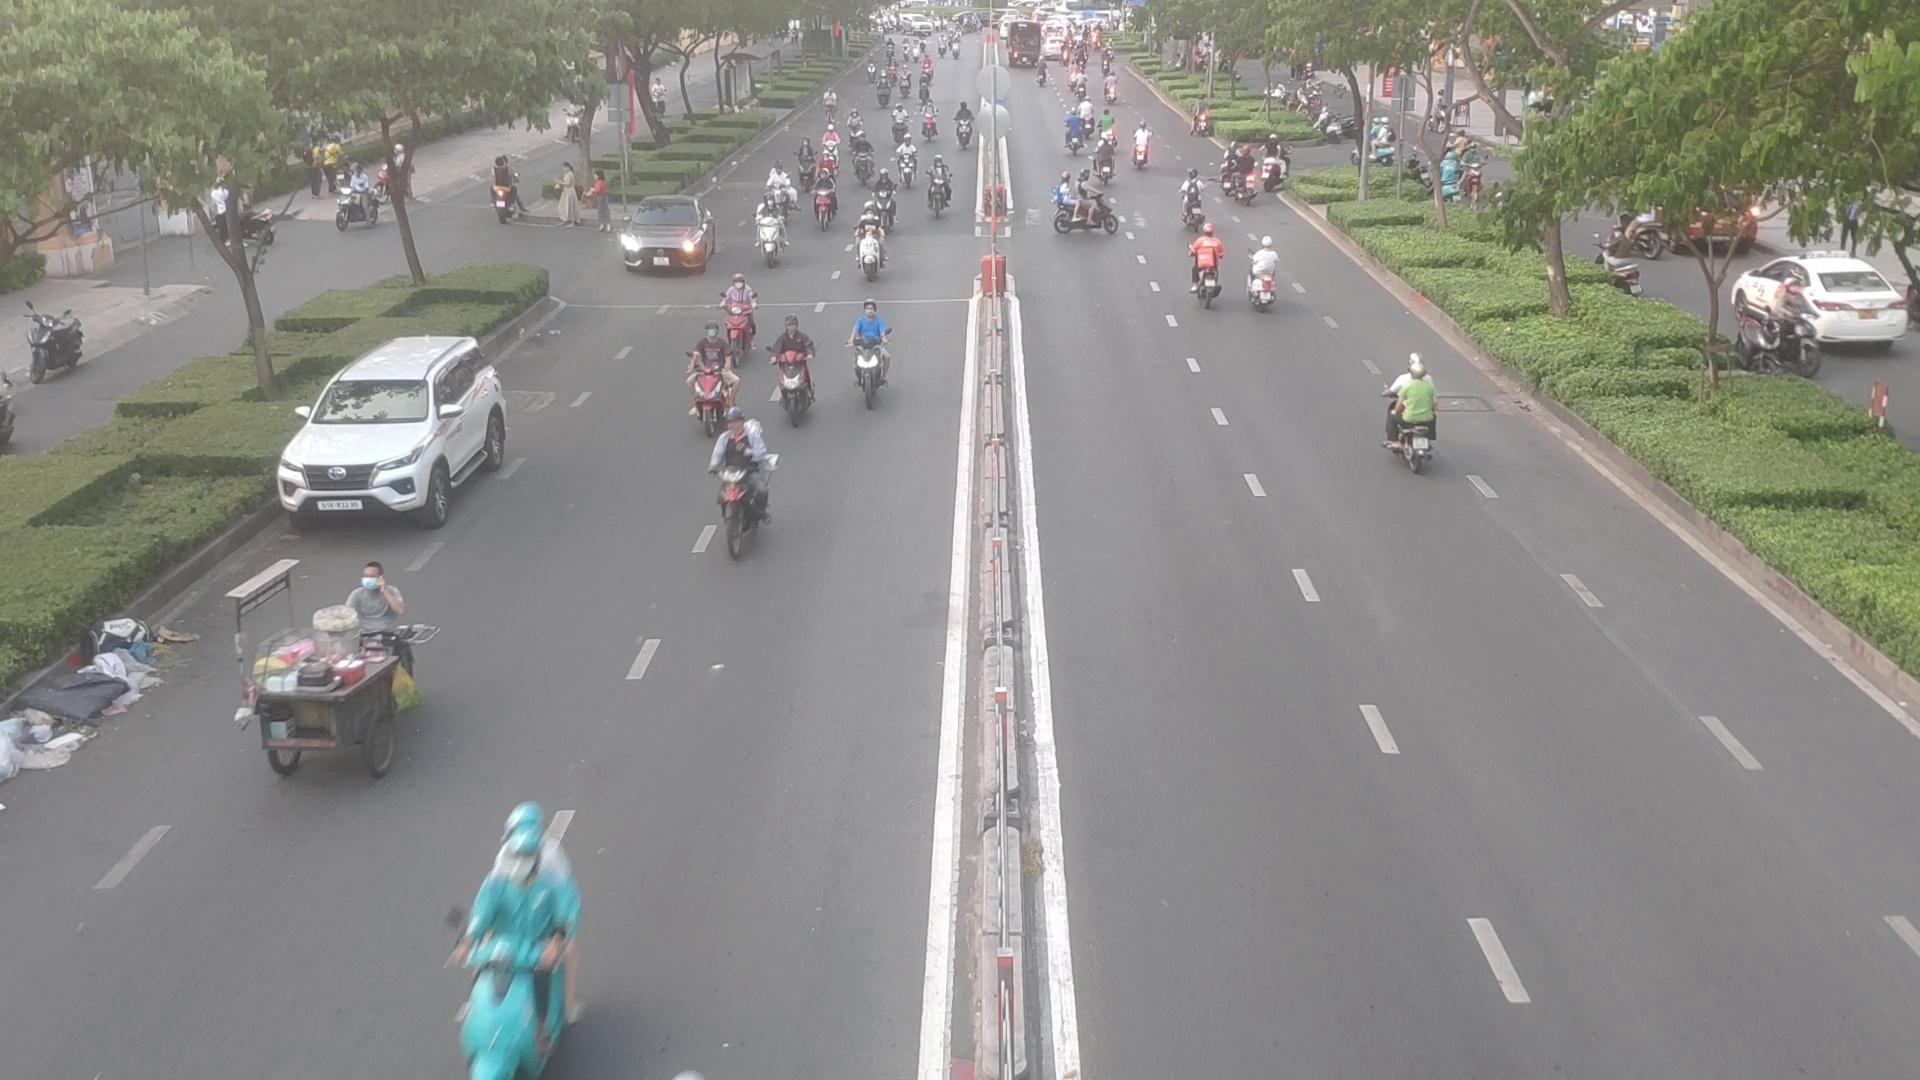car: (284, 331, 524, 524), (613, 199, 723, 278)
motorbike: (440, 825, 587, 1077), (699, 417, 771, 550), (1373, 364, 1447, 471), (843, 305, 898, 407), (775, 318, 831, 419), (686, 332, 744, 429), (709, 273, 764, 353), (1052, 185, 1126, 241), (1242, 233, 1288, 307), (1183, 229, 1226, 307), (848, 216, 890, 280), (752, 212, 787, 266), (1183, 167, 1209, 233), (814, 175, 843, 229), (926, 167, 953, 219), (1131, 124, 1159, 169), (1088, 141, 1116, 183), (1062, 115, 1088, 156), (920, 108, 944, 142)
